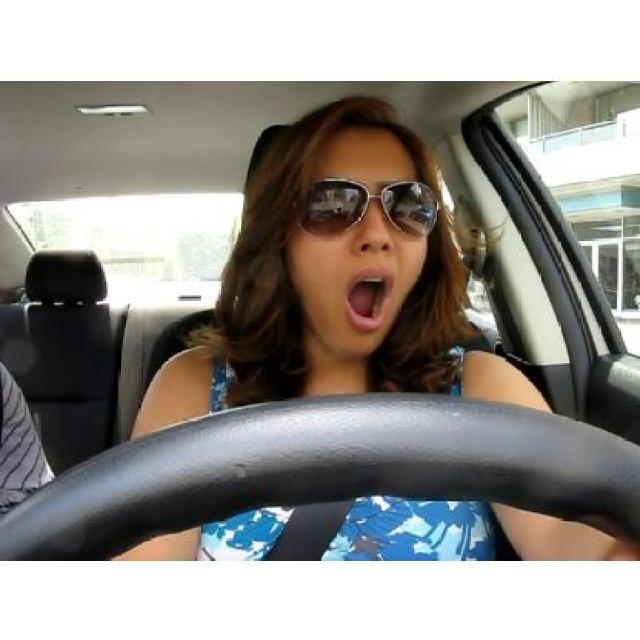inattentif: (286, 95, 428, 360)
